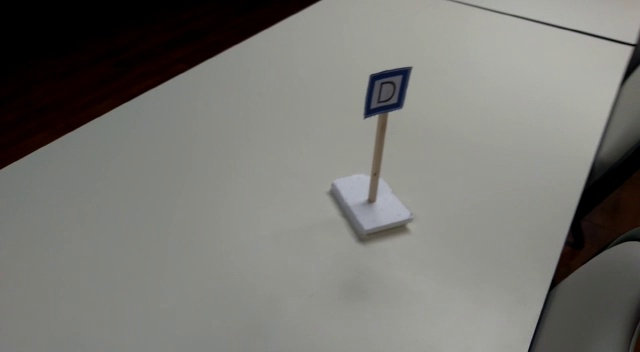durak: (364, 67, 410, 119)
